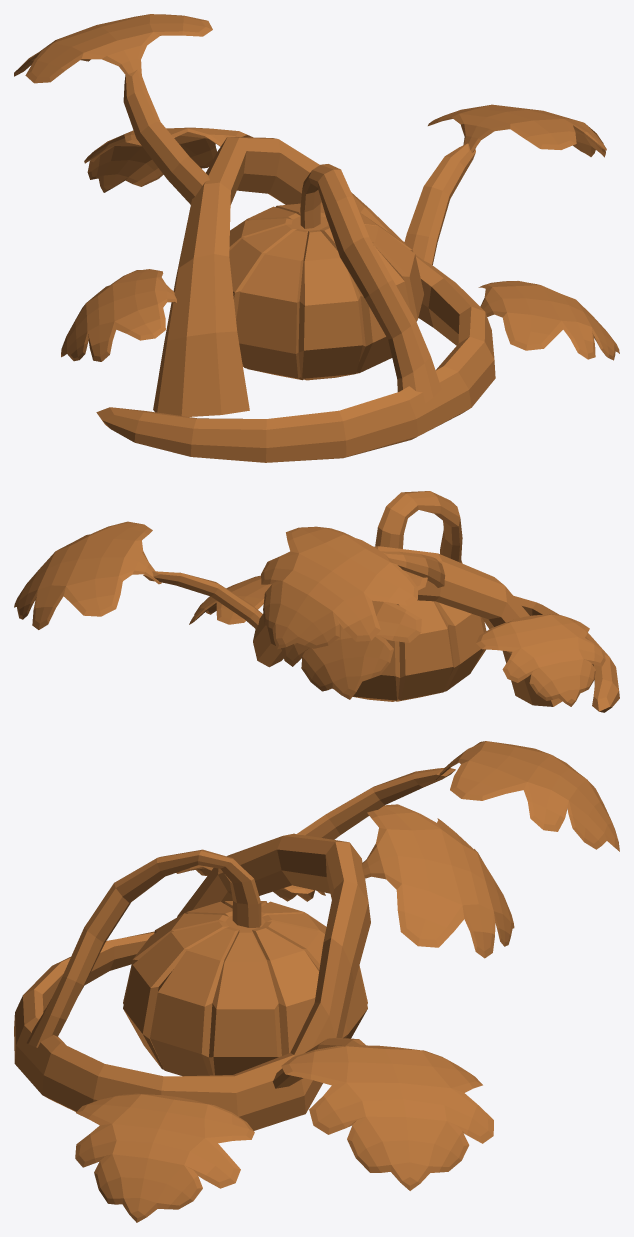
The model's file is Pumpkin_4.glb.
3 views of the same model, one above another, from view 1: azimuth 30°, elevation 25°; view 2: azimuth 150°, elevation 25°; view 3: azimuth 270°, elevation 25° (orthographic). The views are drawn at different scales.
Visible parts, largest first — view 1: Pumpkin_4_Cylinder; view 2: Pumpkin_4_Cylinder; view 3: Pumpkin_4_Cylinder.
Boxes of the visible parts, x1,y1,x2,y2 form: Pumpkin_4_Cylinder: (14,14,619,462); Pumpkin_4_Cylinder: (14,491,619,712); Pumpkin_4_Cylinder: (14,741,619,1222).
Bounding box in the file's own units: 1.29 × 0.59 × 1.08.
